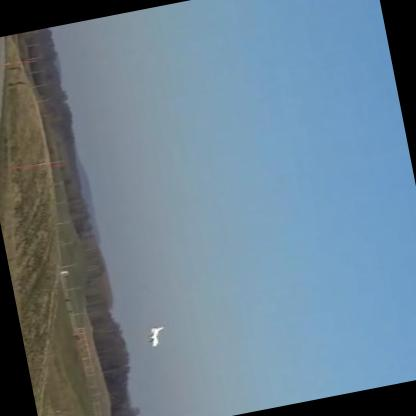plane: (146, 323, 167, 346)
